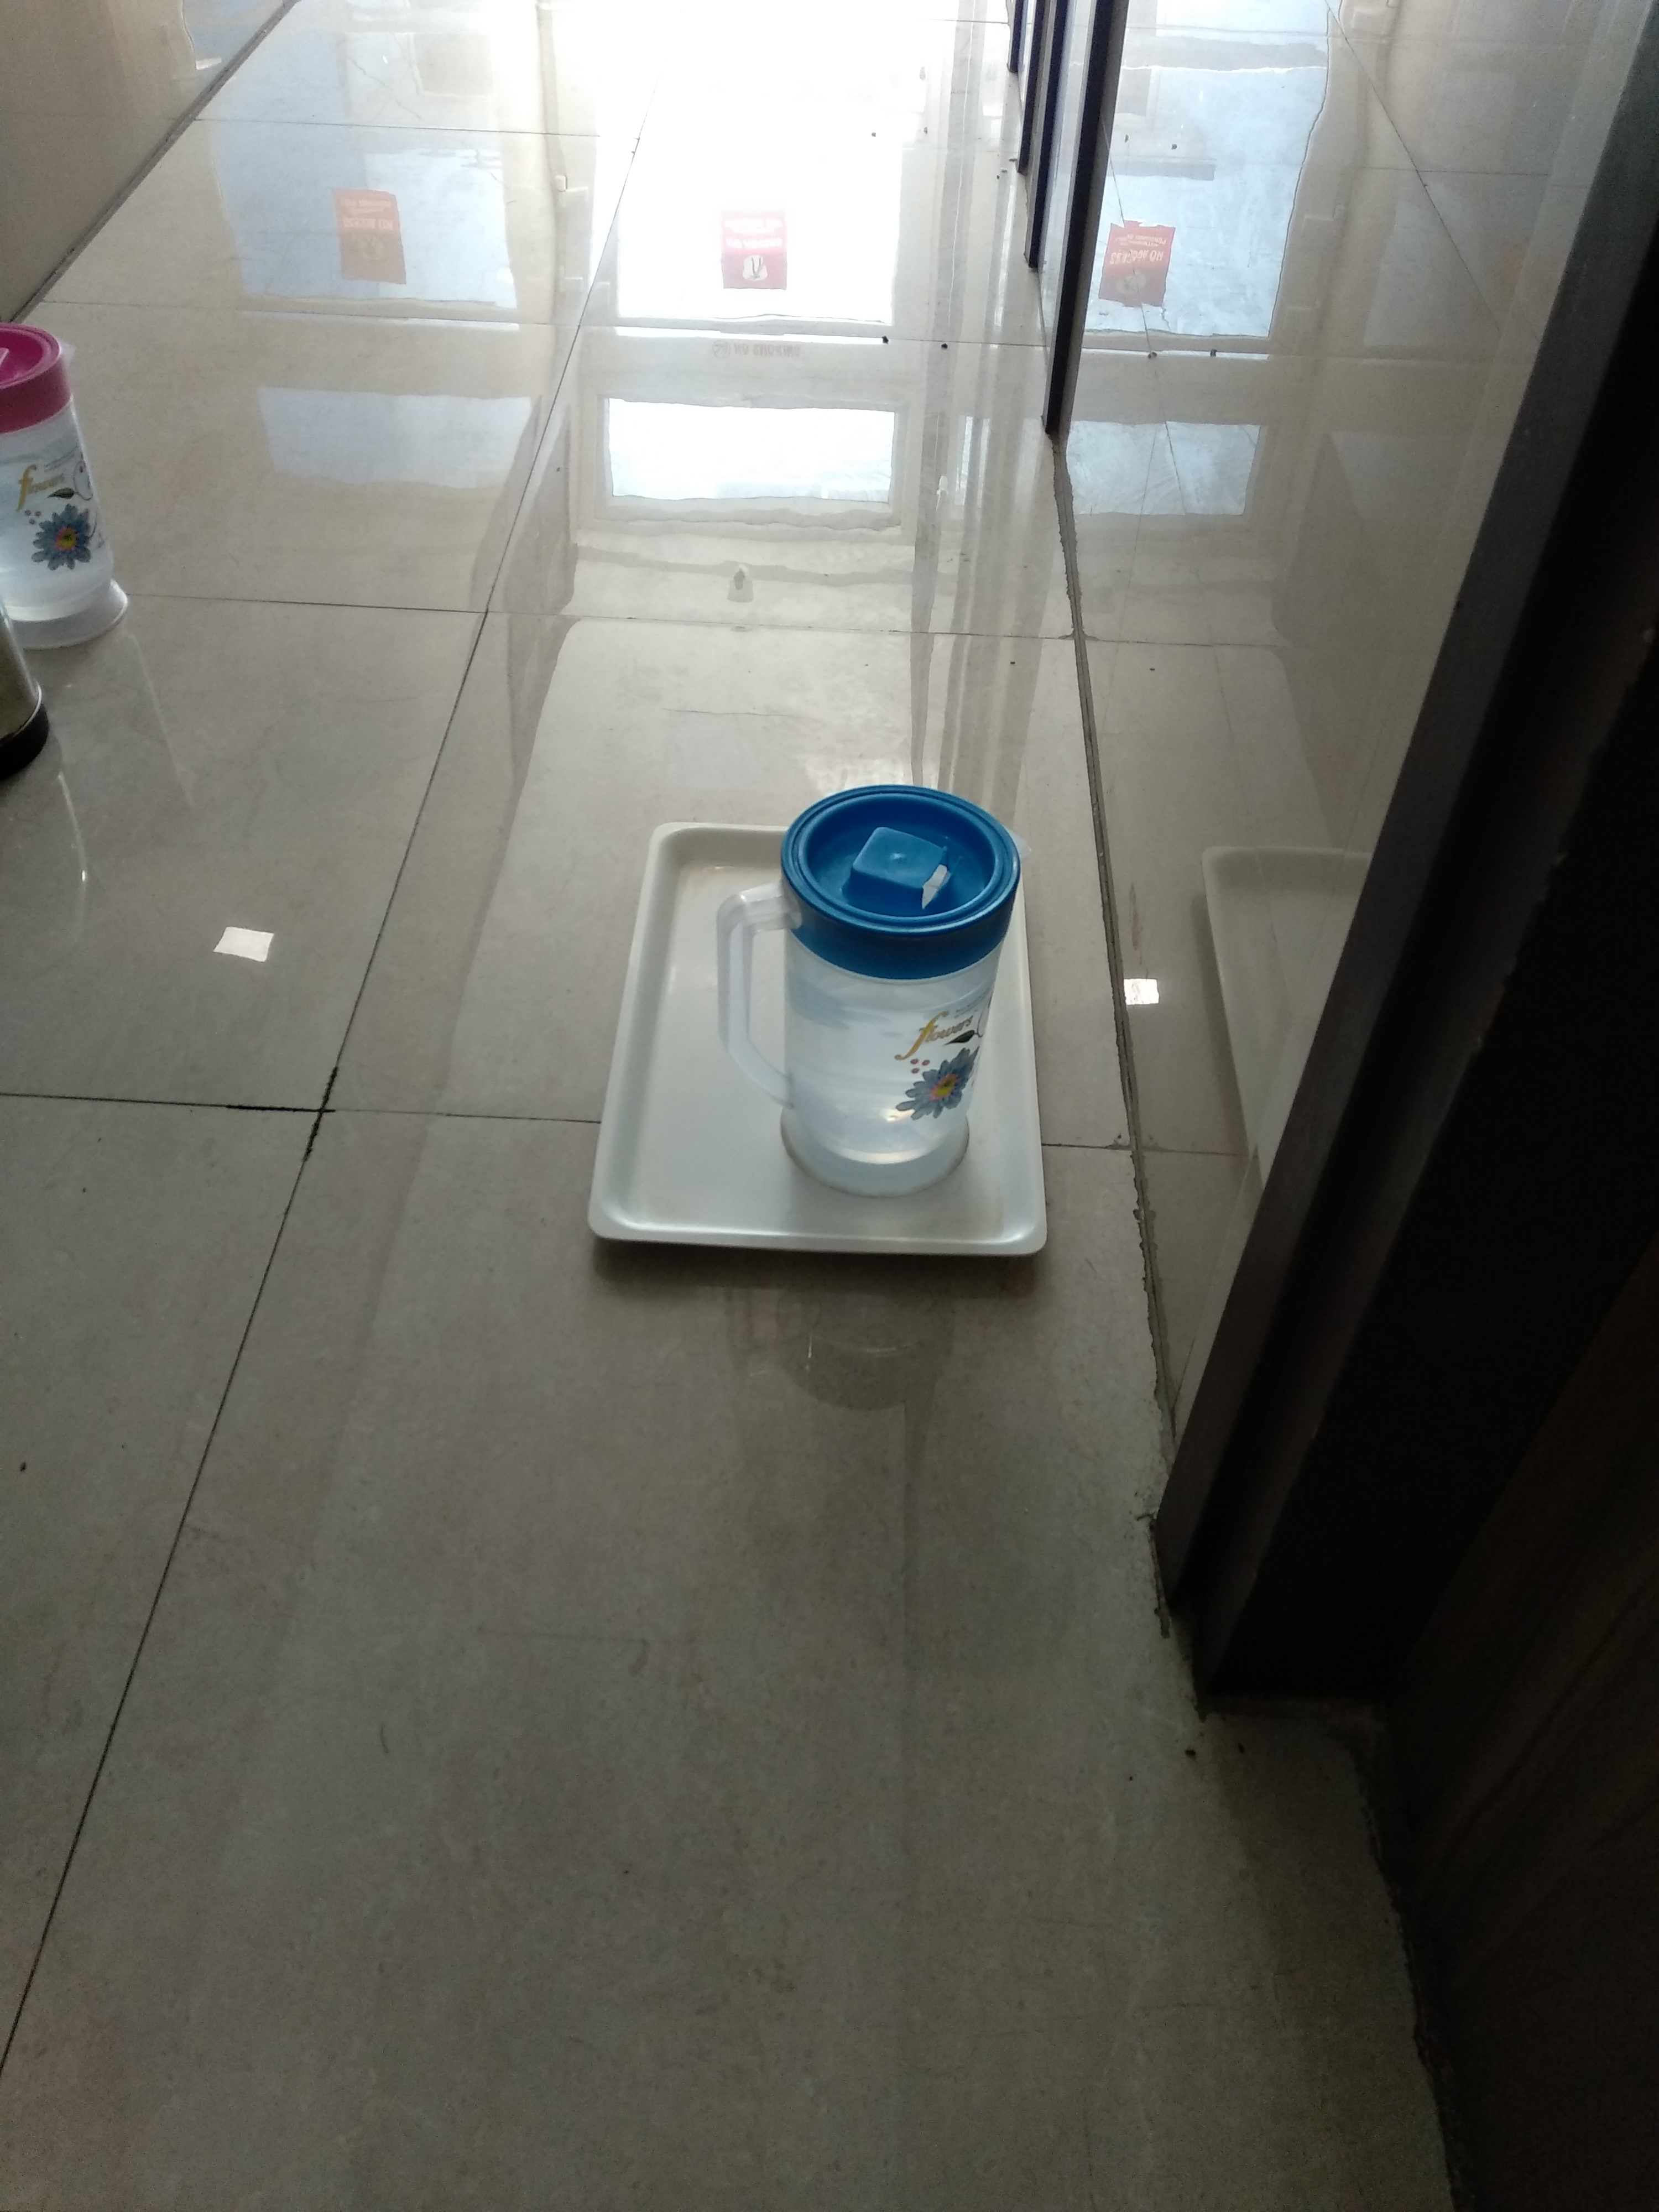JUG: (695, 752, 1033, 1214)
